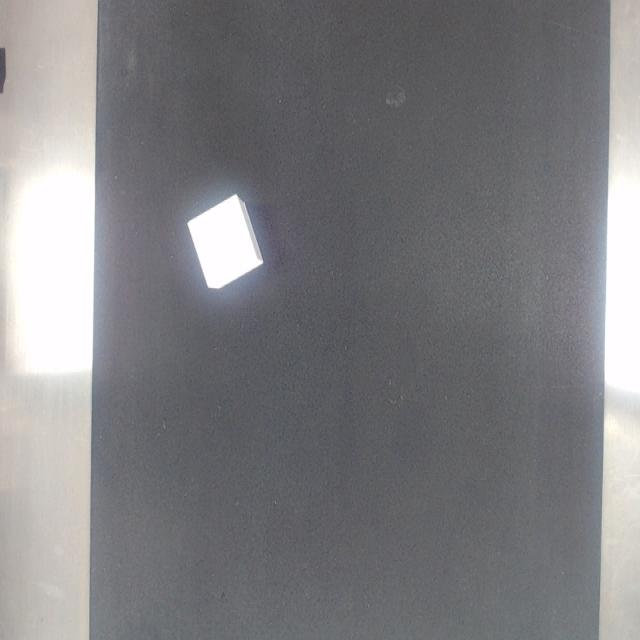Blanco: (187, 195, 262, 288)
